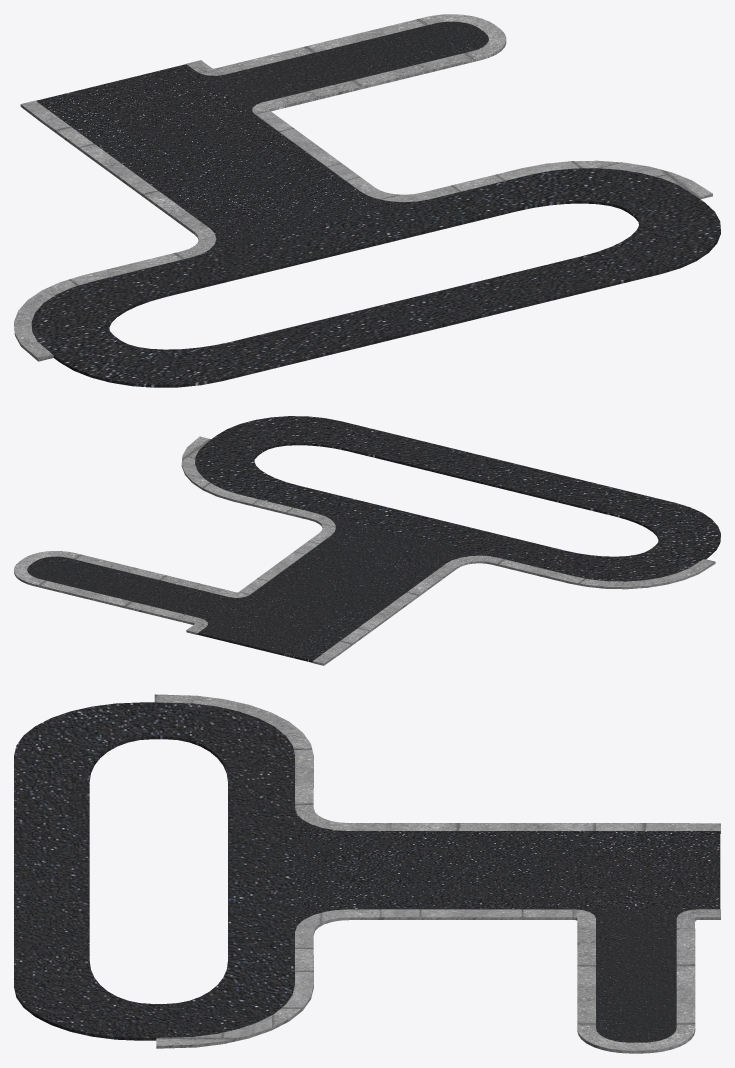
Rendered from Road.fbx.
3 views of the same model, one above another, from view 1: azimuth 30°, elevation 25°; view 2: azimuth 150°, elevation 25°; view 3: azimuth 270°, elevation 25° (orthographic). The views are drawn at different scales.
Visible parts, largest first — view 1: polySurface36, polySurface37, polySurface34, polySurface39, polySurface38, polySurface40, polySurface26, polySurface28, polySurface27, polySurface43, polySurface41, polySurface42; view 2: polySurface36, polySurface37, polySurface34, polySurface39, polySurface38, polySurface40, polySurface26, polySurface28, polySurface27, polySurface43, polySurface41, polySurface42; view 3: polySurface36, polySurface34, polySurface37, polySurface39, polySurface38, polySurface40, polySurface27, polySurface26, polySurface28, polySurface43, polySurface41, polySurface42.
Part boxes in pixels (x1,y1,x2,y2): polySurface36: (383,168,720,304); polySurface37: (142,211,533,356); polySurface34: (31,269,324,387); polySurface39: (107,102,326,195); polySurface38: (166,167,427,256); polySurface40: (36,64,237,152); polySurface26: (14,100,216,361); polySurface28: (186,14,506,113); polySurface27: (255,111,712,202); polySurface43: (281,35,430,94); polySurface41: (385,21,488,60); polySurface42: (197,61,293,113); polySurface36: (195,416,437,521); polySurface37: (352,445,598,566); polySurface34: (530,484,720,581); polySurface39: (238,554,411,620); polySurface38: (306,514,495,588); polySurface40: (198,604,366,662); polySurface26: (312,555,715,665); polySurface28: (14,551,249,634); polySurface27: (181,436,335,594); polySurface43: (78,565,203,607); polySurface41: (27,556,99,588); polySurface42: (158,591,249,626); polySurface36: (14,908,294,1040); polySurface34: (14,702,294,808); polySurface37: (14,783,294,918); polySurface39: (410,831,613,909); polySurface38: (295,808,447,931); polySurface40: (568,831,720,909); polySurface27: (156,909,573,1048); polySurface26: (154,694,720,833); polySurface28: (572,909,720,1053); polySurface43: (596,934,676,1006); polySurface41: (596,1000,676,1042); polySurface42: (576,909,695,947).
Size of the model in its own units: 14116 by 53.17 by 11841.
Materials: 3 (3 with a texture image).
